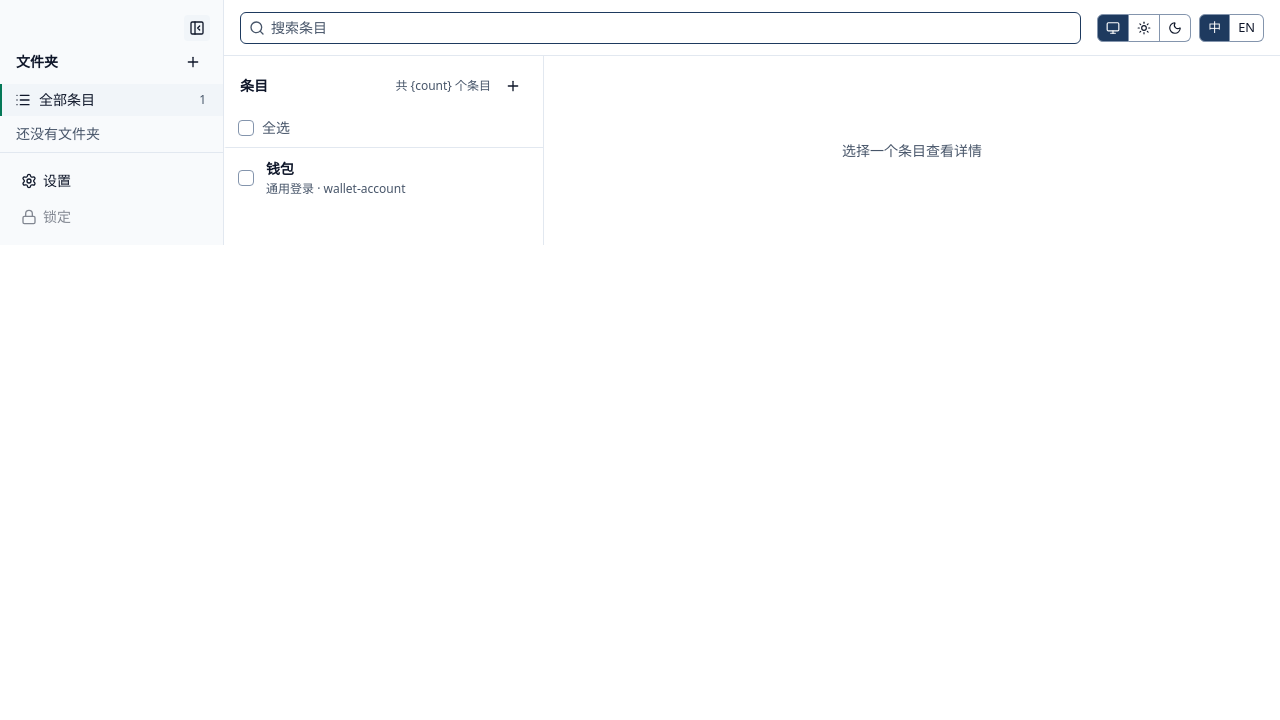
it: 工作区删除条目 › 删除最后一个条目后回到空状态提示
Click the button "钱包 通用登录 · wallet-account": (400, 178) [258,148,543,208]
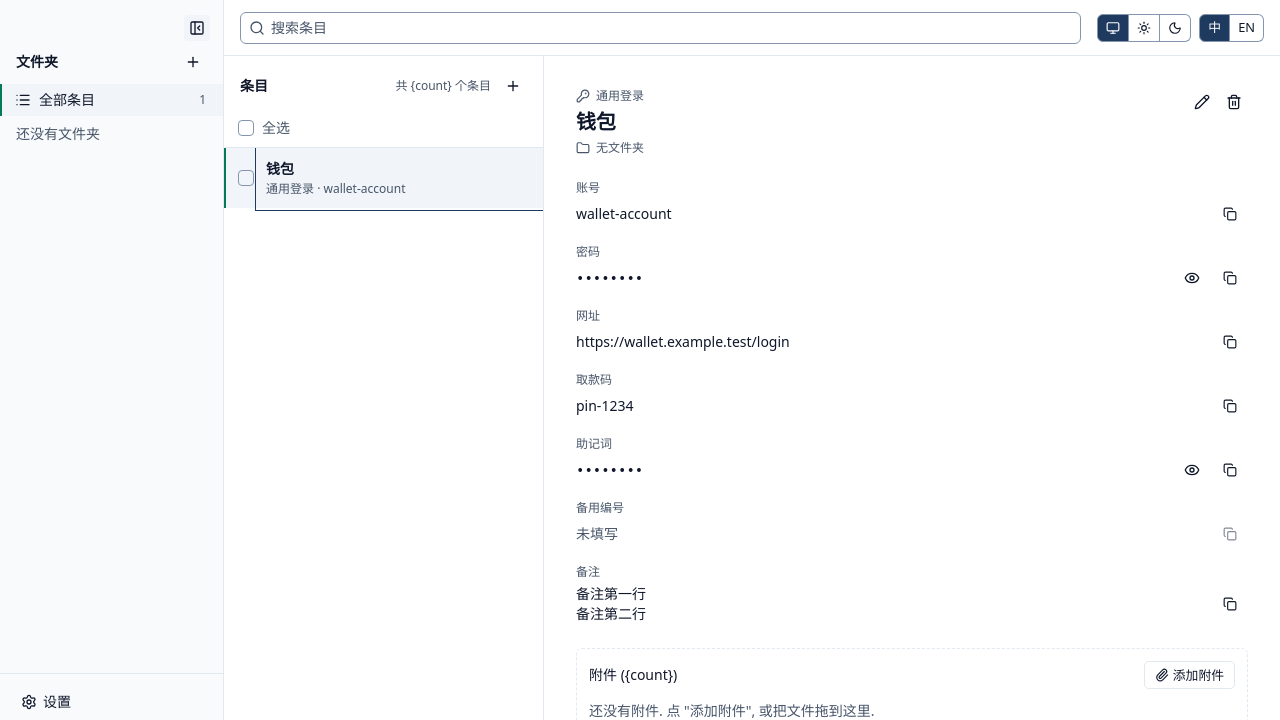
Check: the heading "钱包" is shown, box [576,108,616,135]
Click the button named "删除条目": (1234, 102) [1220,88,1248,116]
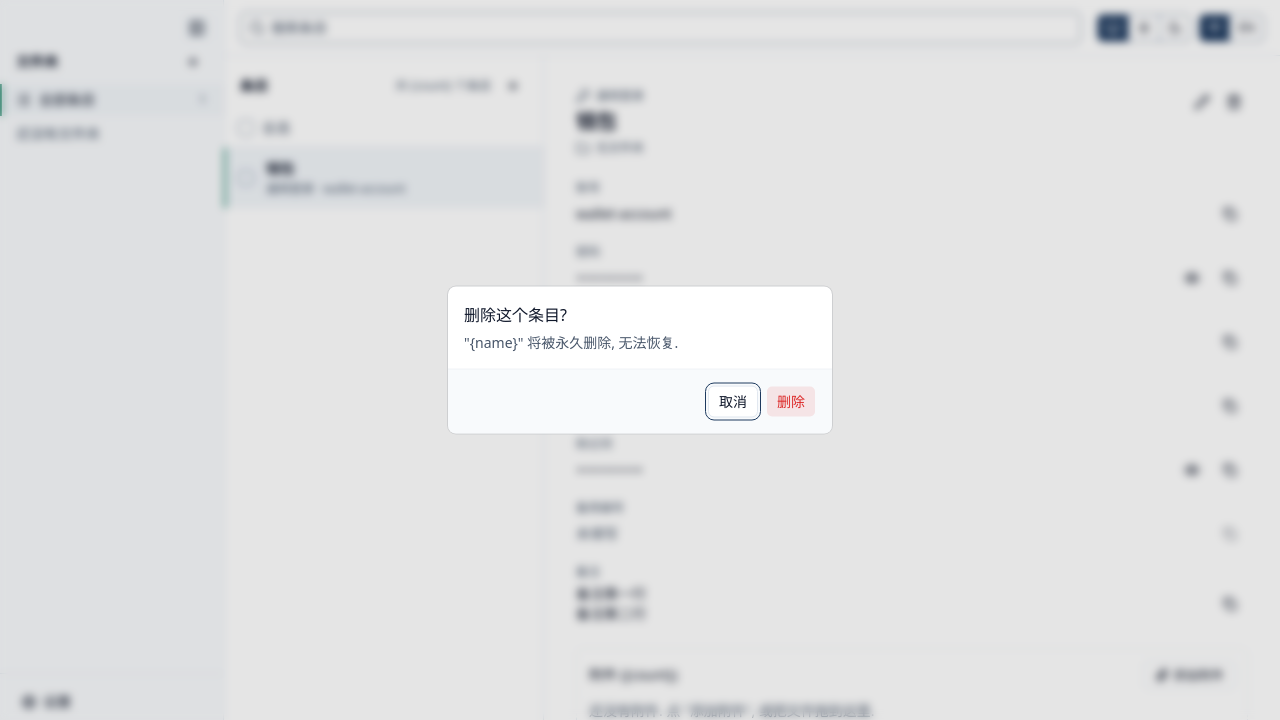
Click the button "删除": (791, 402) [766,386,816,418]
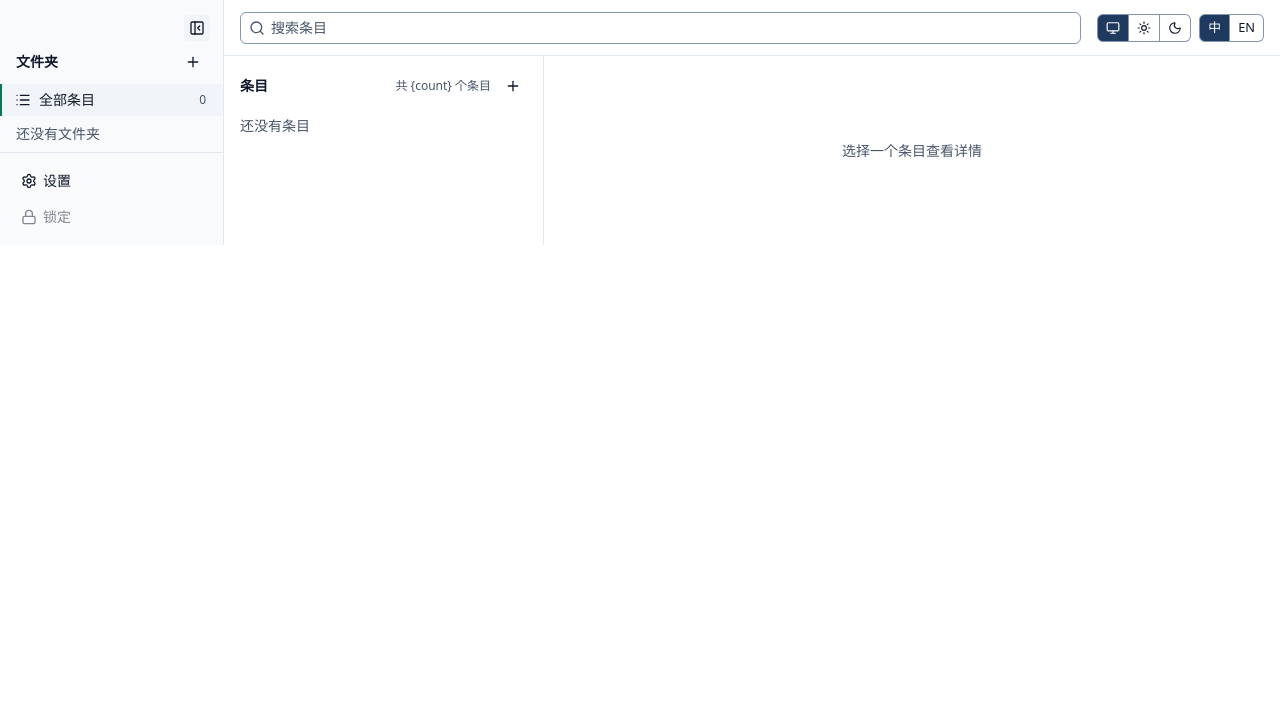
Check: the text "还没有条目" is shown, box [240,116,310,135]
Check: the text "选择一个条目查看详情" is shown, box [842,140,982,160]
